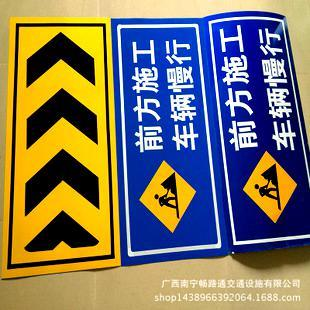sign: (8, 16, 306, 268)
